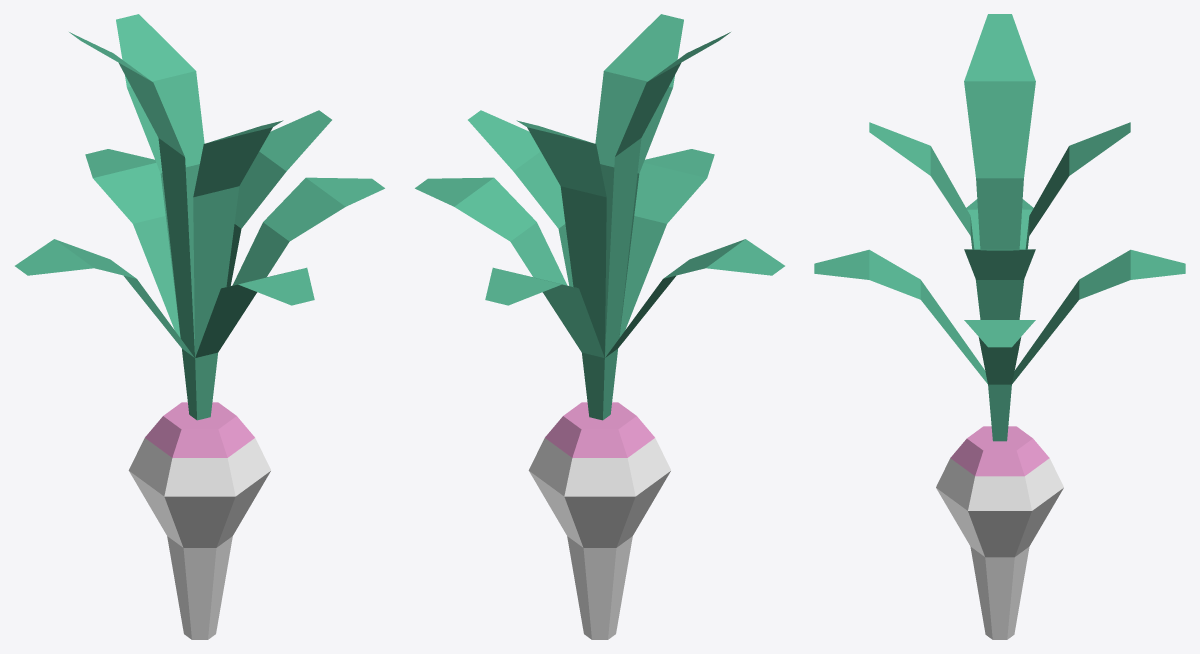
The model's file is radish.obj.
3 views of the same model, side by side, from view 1: azimuth 30°, elevation 25°; view 2: azimuth 150°, elevation 25°; view 3: azimuth 270°, elevation 25° (orthographic). The views are drawn at different scales.
Visible parts, largest first — view 1: radish; view 2: radish; view 3: radish.
Part boxes in pixels (x1,y1,x2,y2): radish: (15, 14, 384, 639); radish: (415, 14, 784, 639); radish: (814, 14, 1185, 639).
Bounding box in the file's own units: 0.3431 × 0.5763 × 0.3431.
